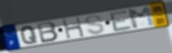B: (36, 21, 60, 44)
E: (109, 9, 134, 33)
H: (61, 16, 86, 40)
M: (126, 5, 157, 30)
Q: (20, 25, 39, 45)
S: (84, 14, 106, 35)
